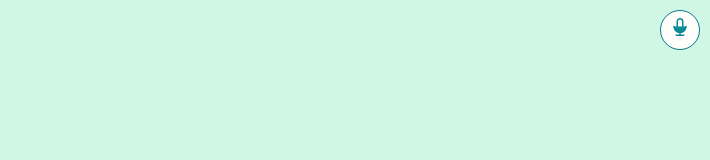
Test: TranscriptUserIdea › explains when local speech recognition is unavailable and leaves typing available
Click the button "Dictar idea" at (680, 30), box [660,10,700,50]
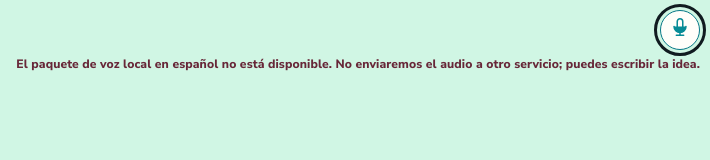
Check: the message shows "paquete de voz local en español no está disponible", box [16,56,700,72]
